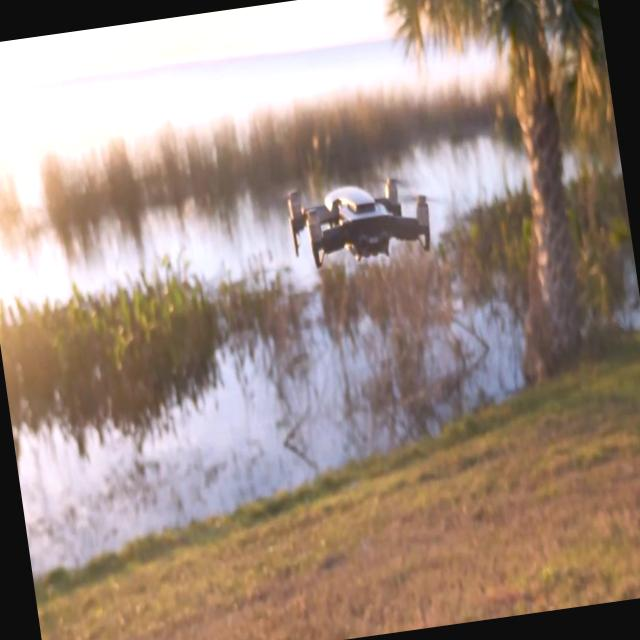drone: (283, 164, 452, 276)
